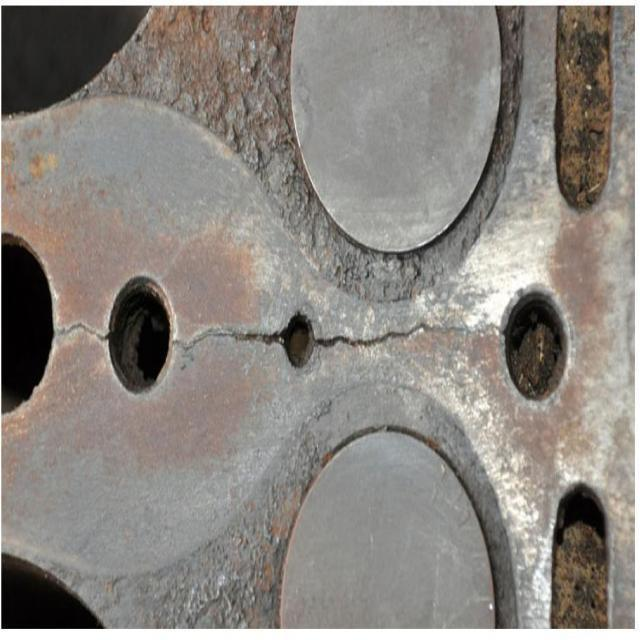defect: (313, 315, 508, 353), (168, 320, 291, 355), (52, 319, 116, 344)
